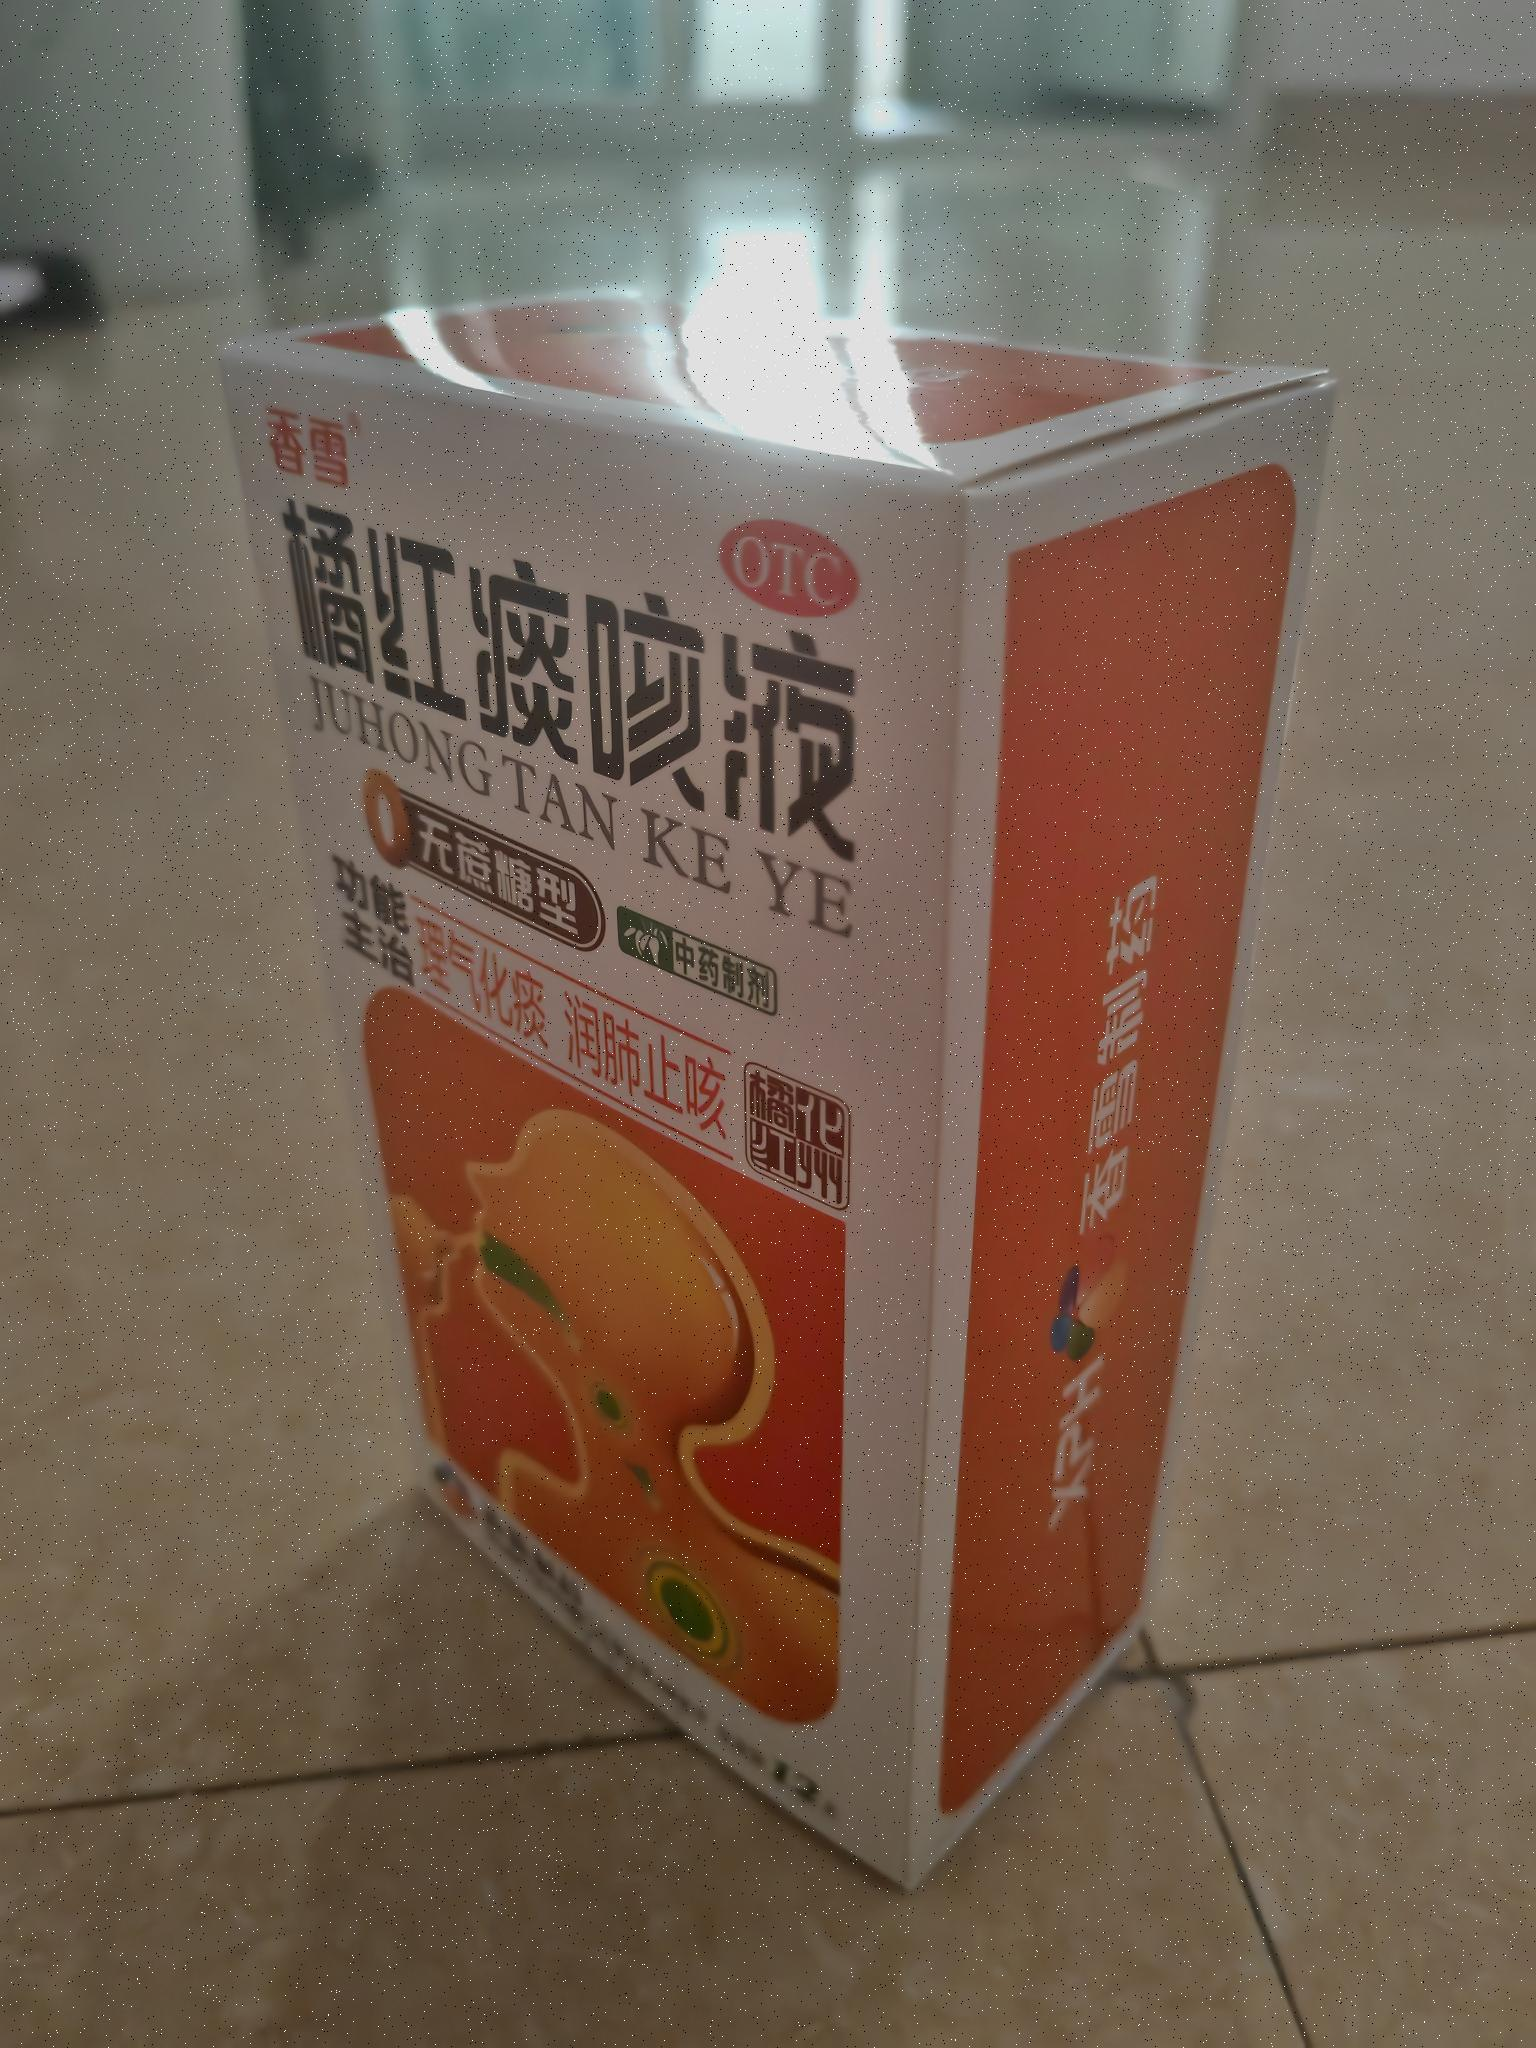Medicine1: (194, 269, 1363, 1921)
